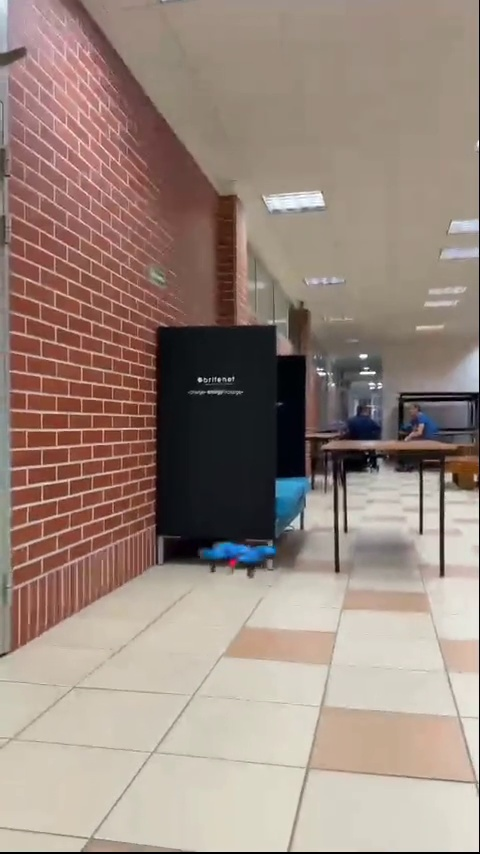drone: (207, 539, 281, 591)
no vest: (344, 398, 387, 446), (401, 400, 444, 443)
